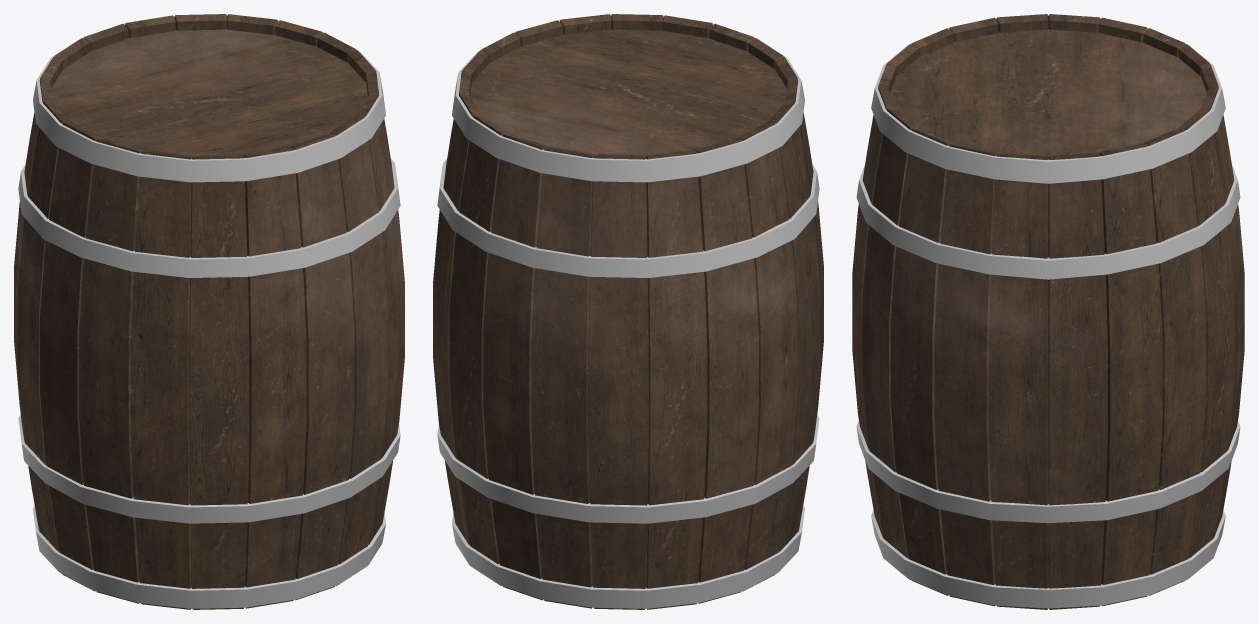
Rendered from SM_Barrel_01.fbx.
3 renders of one model, left to right at view 1: azimuth 30°, elevation 25°; view 2: azimuth 150°, elevation 25°; view 3: azimuth 270°, elevation 25°, orthographic.
Parts seen in each view (by area): view 1: SM_Barrel_01_LOD0; view 2: SM_Barrel_01_LOD0; view 3: SM_Barrel_01_LOD0.
Part boxes in pixels (x1,y1,x2,y2): SM_Barrel_01_LOD0: (14,14,404,609); SM_Barrel_01_LOD0: (433,14,823,609); SM_Barrel_01_LOD0: (852,14,1244,609).
Size of what is drawn, in the model's own units: 88.3 by 112 by 88.3.
